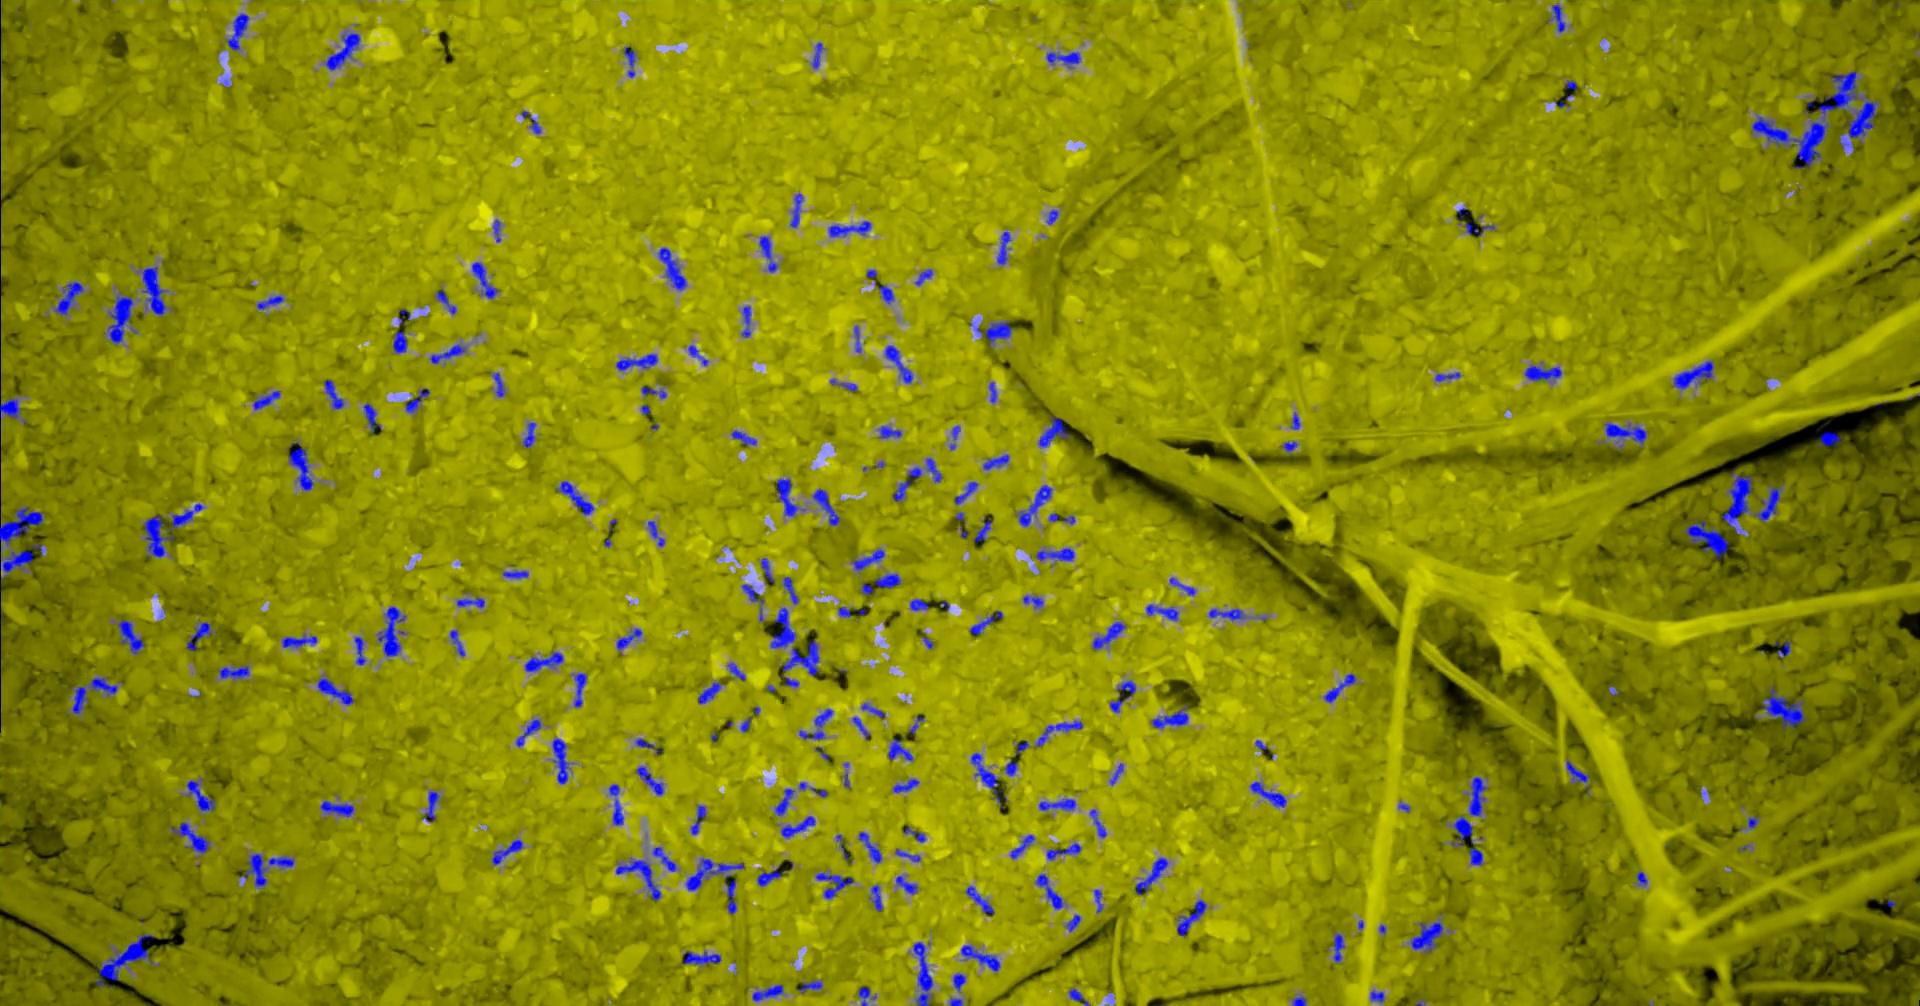ant: (684, 857, 743, 915), (94, 934, 154, 988), (1719, 471, 1752, 533), (970, 752, 1006, 807), (615, 860, 660, 901), (1763, 685, 1804, 728), (71, 676, 117, 714), (1685, 520, 1728, 559), (0, 506, 42, 545), (1451, 815, 1482, 865), (1018, 484, 1051, 526), (377, 606, 405, 655), (143, 514, 175, 558), (105, 293, 132, 344), (781, 639, 819, 674), (169, 821, 210, 854), (325, 32, 359, 70), (555, 480, 593, 514), (912, 941, 932, 1005), (657, 246, 686, 290), (141, 265, 166, 315), (0, 542, 42, 572), (1134, 857, 1167, 894), (1035, 720, 1082, 746), (1672, 359, 1713, 389), (288, 442, 312, 490), (1176, 899, 1206, 936), (797, 708, 832, 739), (1035, 873, 1064, 909), (884, 345, 912, 384), (776, 478, 804, 516), (1752, 485, 1782, 521), (770, 607, 795, 648), (811, 488, 839, 525), (471, 260, 498, 298), (165, 503, 203, 530), (815, 871, 853, 898), (1604, 423, 1646, 447), (1410, 921, 1443, 951), (891, 466, 921, 500), (960, 945, 999, 970), (317, 677, 354, 704), (974, 320, 1012, 345), (1150, 702, 1189, 728), (1037, 417, 1070, 446), (55, 281, 83, 315), (1250, 781, 1286, 807), (1323, 673, 1355, 702), (1092, 621, 1125, 649), (117, 619, 143, 653), (239, 854, 265, 888), (551, 738, 571, 782), (185, 780, 215, 810), (964, 885, 994, 915), (1109, 680, 1135, 713), (1465, 776, 1487, 815), (226, 13, 249, 50), (969, 610, 1002, 635), (635, 766, 663, 795), (780, 815, 815, 838), (185, 620, 211, 652), (742, 584, 763, 620), (851, 547, 884, 570), (1564, 760, 1589, 790), (491, 840, 522, 864), (524, 652, 563, 671), (858, 831, 881, 862), (429, 343, 465, 363), (827, 220, 870, 236), (758, 235, 777, 272), (615, 353, 657, 370), (516, 719, 541, 746), (323, 379, 344, 409), (616, 627, 643, 652), (608, 784, 623, 826), (404, 387, 429, 412), (651, 846, 676, 871), (1524, 365, 1561, 381), (756, 865, 783, 887), (362, 401, 381, 432), (888, 737, 913, 760), (1010, 835, 1034, 857), (697, 681, 723, 702), (1046, 51, 1079, 67), (1046, 842, 1079, 859), (750, 984, 783, 1001), (251, 390, 279, 409), (775, 788, 794, 815), (954, 481, 977, 504), (422, 791, 439, 821), (320, 800, 353, 815), (1035, 547, 1074, 560), (682, 951, 721, 964), (1547, 4, 1564, 32), (436, 290, 456, 314), (1145, 605, 1177, 620), (1037, 798, 1076, 810), (789, 193, 803, 227), (0, 395, 20, 418), (996, 231, 1010, 264), (1090, 809, 1106, 837), (1170, 577, 1195, 594), (281, 634, 316, 647), (782, 575, 797, 605), (797, 781, 827, 796), (690, 805, 705, 835), (982, 453, 1008, 470), (648, 520, 664, 546), (635, 737, 662, 753), (687, 344, 709, 365), (521, 111, 540, 133), (573, 673, 585, 708), (924, 457, 942, 481), (257, 293, 284, 309), (1208, 608, 1244, 620), (974, 520, 990, 545), (874, 282, 893, 304), (895, 875, 917, 894), (874, 573, 900, 588), (891, 779, 919, 793), (1464, 222, 1495, 235), (759, 558, 775, 583), (218, 666, 249, 678), (907, 713, 924, 734), (852, 716, 869, 739), (450, 629, 463, 655), (869, 884, 883, 911), (623, 46, 635, 77), (903, 826, 924, 842), (1068, 988, 1090, 1005), (491, 372, 505, 398), (829, 379, 857, 391), (730, 431, 756, 445), (392, 330, 408, 353), (836, 835, 848, 861), (267, 855, 293, 868), (857, 986, 875, 1005), (860, 702, 884, 716), (1332, 932, 1343, 962), (1818, 431, 1840, 446), (740, 305, 750, 337), (640, 385, 665, 398), (522, 422, 535, 447), (1048, 512, 1076, 523), (456, 596, 484, 607), (728, 662, 745, 680), (877, 426, 902, 438), (895, 848, 919, 861), (811, 42, 823, 69), (1109, 763, 1123, 785), (354, 636, 364, 666), (914, 268, 932, 285), (1774, 639, 1790, 657), (1022, 594, 1043, 608), (797, 981, 822, 992), (1434, 371, 1460, 381), (952, 972, 965, 992), (949, 426, 959, 448), (1065, 915, 1079, 931), (909, 598, 928, 610), (491, 218, 500, 241), (853, 325, 861, 352), (502, 570, 528, 578), (1093, 889, 1102, 912), (1283, 439, 1297, 453), (1369, 989, 1384, 1002), (1290, 412, 1300, 429), (988, 381, 996, 403), (1746, 815, 1759, 828), (1046, 210, 1058, 224), (1004, 761, 1016, 775), (1636, 871, 1647, 885), (860, 583, 872, 594), (837, 606, 850, 617), (1291, 995, 1305, 1005)
